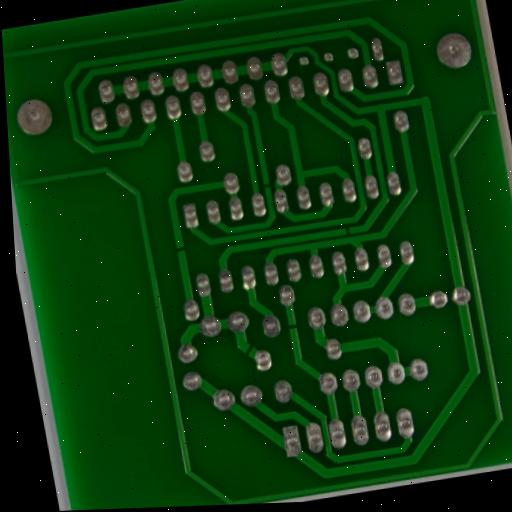open_circuit: (241, 342, 259, 359), (285, 318, 302, 334), (172, 242, 190, 257), (343, 224, 356, 239), (261, 178, 273, 192)
